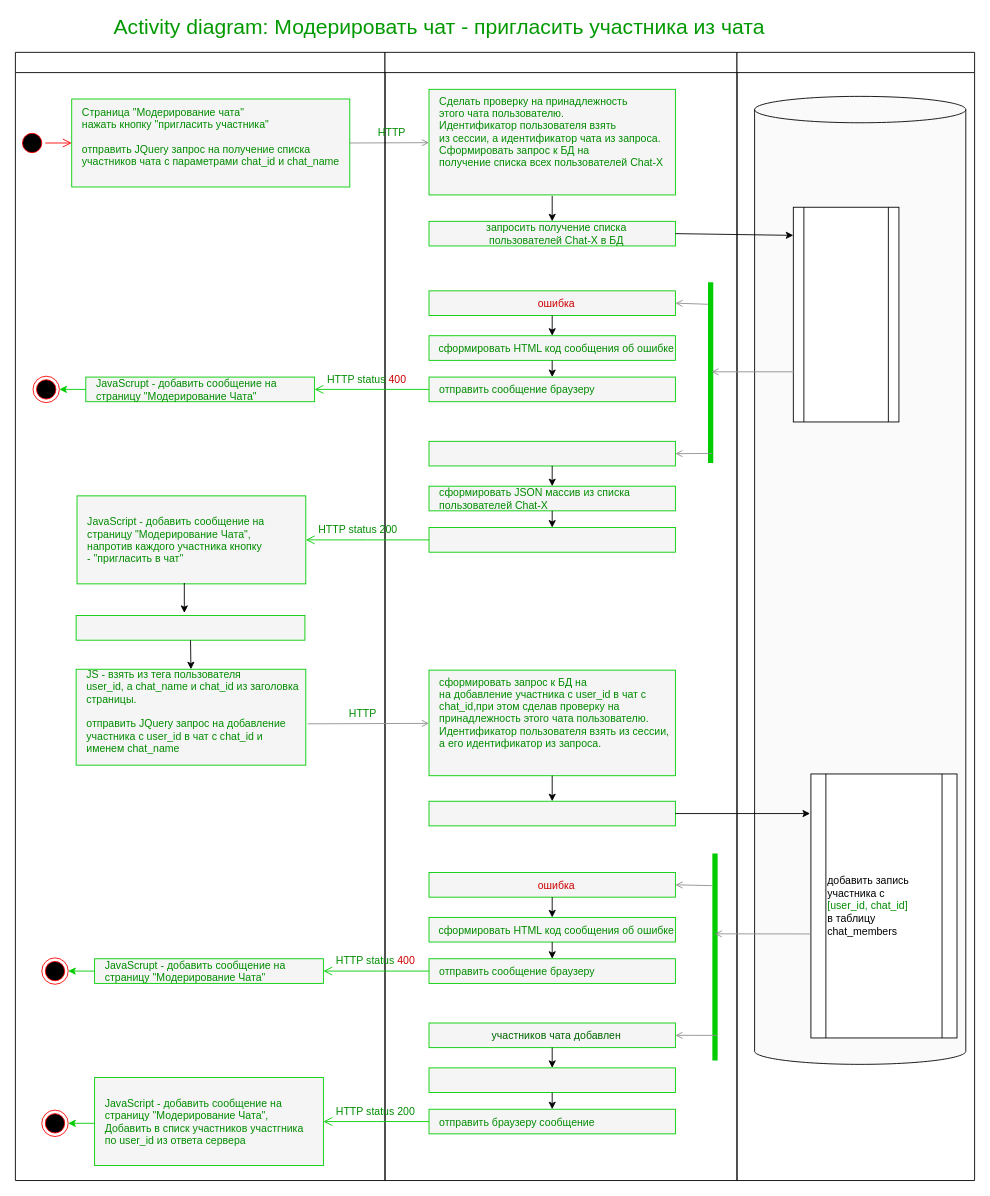
Image size: 990x1196. Some labels were removed from this diagram. The shapes that lost their labels are listed below. From the top down, each one's box as (x1, y1, x2, y2) in pixels, then its label:
(792, 206, 899, 422): сделать выборку из таблицы chat_members
(428, 440, 675, 466): получен список пользователей Chat-X
(428, 527, 675, 552): отправить браузеру JSON массив
(75, 615, 305, 640): нажать кнопку "пригласить в чат"
(15, 51, 385, 1181): Браузер
(384, 51, 737, 1181): Tomcat
(736, 51, 975, 1181): PostgreSQL
(428, 800, 675, 826): запросить в БД добавление участника в чат
(428, 1067, 675, 1093): сформировать HTML код сообщения
